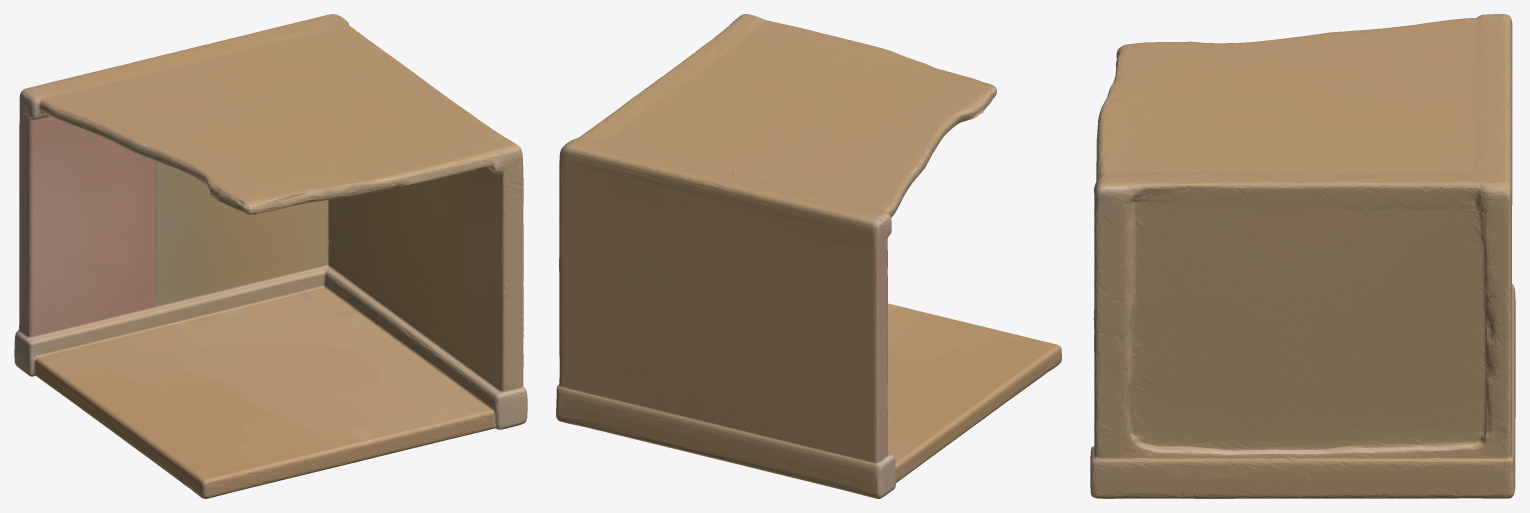
The model's file is 空房间.glb.
3 renders of one model, left to right at view 1: azimuth 30°, elevation 25°; view 2: azimuth 150°, elevation 25°; view 3: azimuth 270°, elevation 25°, orthographic. The views are drawn at different scales.
Visible parts, largest first — view 1: world; view 2: world; view 3: world.
Part boxes in pixels (left/top/right/bottom): world: left=14, top=14, right=527, bottom=498; world: left=556, top=14, right=1061, bottom=498; world: left=1090, top=14, right=1515, bottom=498.
Bounding box in the file's own units: 1.99 × 1.62 × 2.
1 material, 1 textured.
